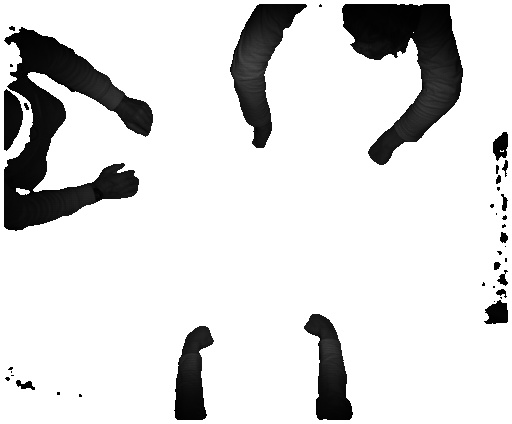fist: (120, 99, 159, 143), (187, 320, 215, 356), (304, 312, 333, 339), (368, 138, 395, 167)
hand: (98, 160, 143, 206)
